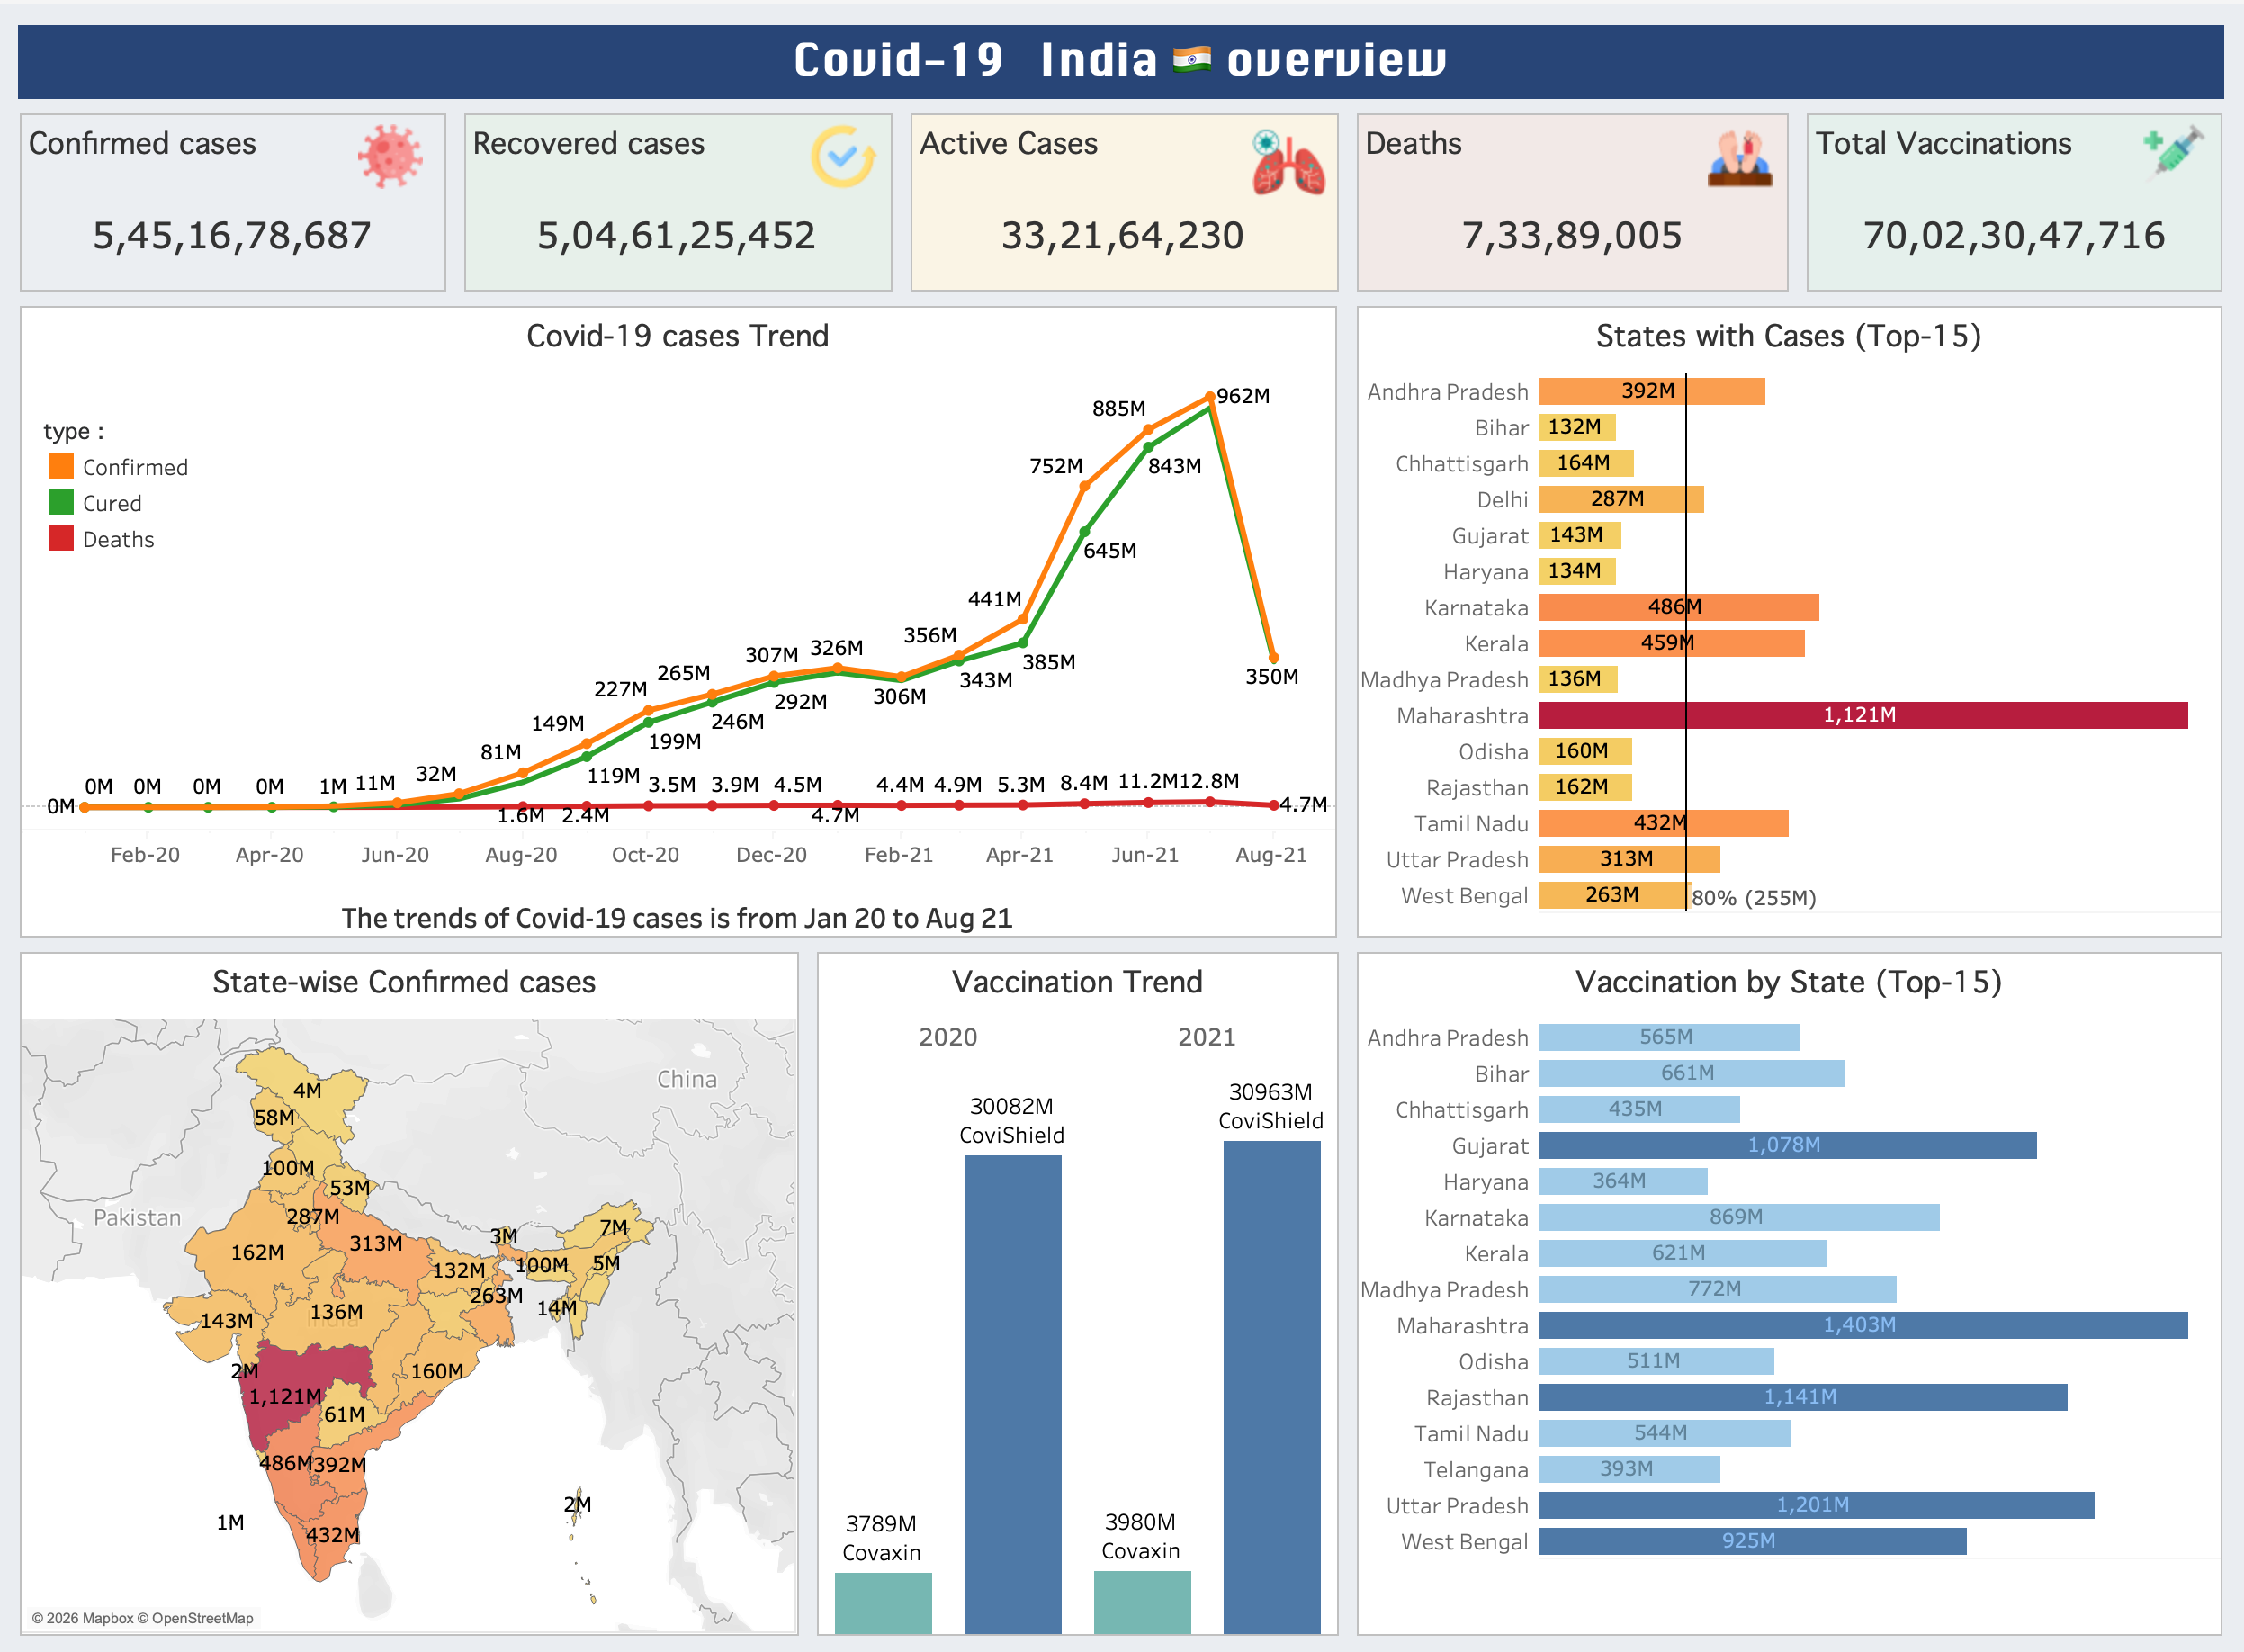

What the dashboard file says about the page in this screenshot:
{"tool":"tableau","page":{"name":"Cases & Vacchination Dashboard","canvas":[1000,1000],"units":"permille","ordinal":0},"visuals":[{"type":"title","box":[6.4,8.7,987.2,53.3]},{"type":"worksheet","title":"Total Confirmed Cases","mark":"Automatic","box":[6.4,62,197.6,116.4]},{"type":"worksheet","title":"Total recovered Cases","mark":"Automatic","box":[204,62,198.2,116.3]},{"type":"worksheet","title":"Active Cases","mark":"Automatic","box":[402.2,62,198.2,116.3]},{"type":"worksheet","title":"Total Deaths","mark":"Automatic","box":[600.5,62,200,116.3]},{"type":"worksheet","title":"Total Vaccinations","mark":"Automatic","box":[800.5,62,193.1,116.3]},{"type":"image","param":"Image/recovery.png","box":[361.6,71.8,36,41.5]},{"type":"image","param":"Image/vaccine.png","box":[954.4,71.8,29.6,38.1]},{"type":"image","param":"Image/coronavirus.png","box":[160.8,72.9,33.6,39.2]},{"type":"image","param":"Image/death.png","box":[760.8,74.1,30.4,39.3]},{"type":"image","param":"Image/active_cases.png","box":[558.4,75.2,47.2,44.9]},{"type":"worksheet","title":"Covid-19 cases Trend","mark":"Line","cols":["Date"],"box":[6.4,178.3,594.3,390.6]},{"type":"worksheet","title":"Top-18 States with Cases","mark":"Automatic","rows":["State"],"cols":["Confirmed"],"box":[600.7,178.3,392.9,390.6]},{"type":"legend","title":"Covid-19 cases Trend","param":"[federated.0so5y7b1pyxi0916gh9s4043mwvx].[:Measure Names]","box":[20.8,249.2,125.8,100.1]},{"type":"worksheet","title":"State-wise Cofirmed Cases","mark":"Automatic","box":[6.4,568.9,354.2,422.4]},{"type":"worksheet","title":"Vaccination Trend","mark":"Bar","cols":["Date"],"box":[360.6,568.9,240,422.4]},{"type":"worksheet","title":"Vaccination by State","mark":"Automatic","rows":["State"],"cols":["Total Individuals Vaccinated"],"box":[600.6,568.9,392.9,422.4]}]}

Visuals, with their boxes on the dashboard's canvas, which has no fixed pixel size, in thousandths of its width and height (x1, y1, x2, y2). These are canvas units, not pixel positions in the 2244x1652 screenshot, which may show the page scaled, cropped or inside an application window:
title: (x1=6, y1=9, x2=994, y2=62)
"Total Confirmed Cases" worksheet: (x1=6, y1=62, x2=204, y2=178)
"Total recovered Cases" worksheet: (x1=204, y1=62, x2=402, y2=178)
"Active Cases" worksheet: (x1=402, y1=62, x2=600, y2=178)
"Total Deaths" worksheet: (x1=600, y1=62, x2=800, y2=178)
"Total Vaccinations" worksheet: (x1=800, y1=62, x2=994, y2=178)
image: (x1=362, y1=72, x2=398, y2=113)
image: (x1=954, y1=72, x2=984, y2=110)
image: (x1=161, y1=73, x2=194, y2=112)
image: (x1=761, y1=74, x2=791, y2=113)
image: (x1=558, y1=75, x2=606, y2=120)
"Covid-19 cases Trend" worksheet (Line marks): (x1=6, y1=178, x2=601, y2=569)
"Top-18 States with Cases" worksheet: (x1=601, y1=178, x2=994, y2=569)
"Covid-19 cases Trend" legend: (x1=21, y1=249, x2=147, y2=349)
"State-wise Cofirmed Cases" worksheet: (x1=6, y1=569, x2=361, y2=991)
"Vaccination Trend" worksheet (Bar marks): (x1=361, y1=569, x2=601, y2=991)
"Vaccination by State" worksheet: (x1=601, y1=569, x2=994, y2=991)
